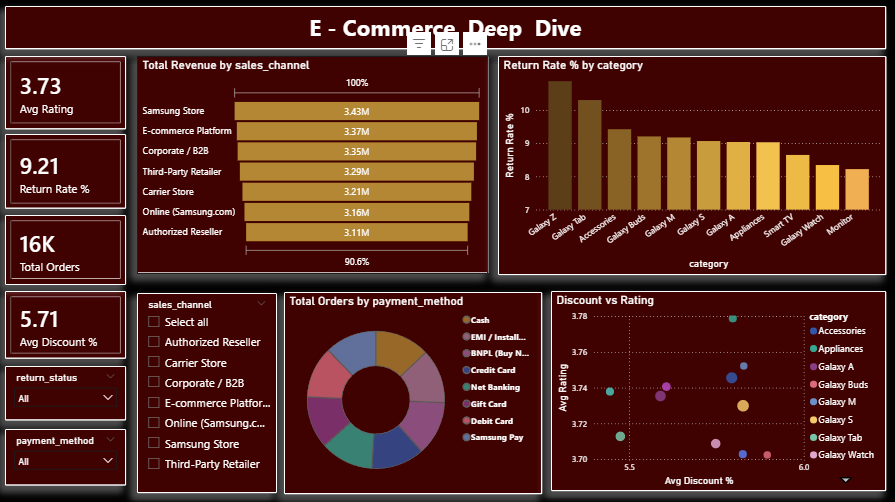

What the dashboard file says about the page in this screenshot:
{"tool":"powerbi","page":{"name":"E-Commerce Dashboard","canvas":[1280,720],"ordinal":1},"visuals":[{"type":"cardVisual","fields":{"Data":["samsung_sales.Avg Rating"]},"box":[8.7,83.4,173.1,104.6],"z":0},{"type":"textbox","box":[8.7,11.2,1258.8,62.3],"z":1000},{"type":"cardVisual","fields":{"Data":["samsung_sales.Return Rate %"]},"box":[8.7,194.2,173.1,107.1],"z":2000},{"type":"cardVisual","fields":{"Data":["samsung_sales.Avg Discount %"]},"box":[8.7,418.4,173.1,97.1],"z":3000},{"type":"cardVisual","fields":{"Data":["samsung_sales.Total Orders"]},"box":[8.7,310,173.1,99.6],"z":4000},{"type":"funnel","fields":{"Category":["samsung_sales.sales_channel"],"Y":["samsung_sales.Total Revenue"]},"box":[196.7,83.4,501.8,311.3],"z":5000},{"type":"donutChart","fields":{"Category":["samsung_sales.payment_method"],"Y":["samsung_sales.Total Orders"]},"box":[406.8,419.6,368.5,289.2],"z":6000},{"type":"scatterChart","title":"Discount vs Rating","fields":{"X":["samsung_sales.Avg Discount %"],"Y":["samsung_sales.Avg Rating"],"Size":["samsung_sales.Total Orders"],"Series":["samsung_sales.category"]},"box":[788.1,418.2,479.1,286.3],"z":7000},{"type":"slicer","fields":{"Values":["samsung_sales.sales_channel"]},"box":[197,421,199.9,286.3],"z":8000},{"type":"slicer","fields":{"Values":["samsung_sales.return_status"]},"box":[8.7,525.4,173.1,78.4],"z":9000},{"type":"slicer","fields":{"Values":["samsung_sales.payment_method"]},"box":[8.7,615.1,173.1,80.9],"z":10000},{"type":"columnChart","fields":{"Y":["samsung_sales.Return Rate %"],"Category":["samsung_sales.category"]},"box":[712.2,83.4,555.3,312.5],"z":11000}]}

Visuals, with their boxes in screenshot pixels (x1, y1, x2, y2), scaled from the page's 1280x720 canvas onto the 895x502 screenshot:
cardVisual - samsung_sales.Avg Rating: 6,58,127,131
textbox: 6,8,886,51
cardVisual - samsung_sales.Return Rate %: 6,135,127,210
cardVisual - samsung_sales.Avg Discount %: 6,292,127,359
cardVisual - samsung_sales.Total Orders: 6,216,127,286
funnel - samsung_sales.sales_channel x samsung_sales.Total Revenue: 138,58,488,275
donutChart - samsung_sales.payment_method x samsung_sales.Total Orders: 284,293,542,494
"Discount vs Rating" scatterChart: 551,292,886,491
slicer - samsung_sales.sales_channel: 138,294,278,493
slicer - samsung_sales.return_status: 6,366,127,421
slicer - samsung_sales.payment_method: 6,429,127,485
columnChart - samsung_sales.Return Rate % x samsung_sales.category: 498,58,886,276
